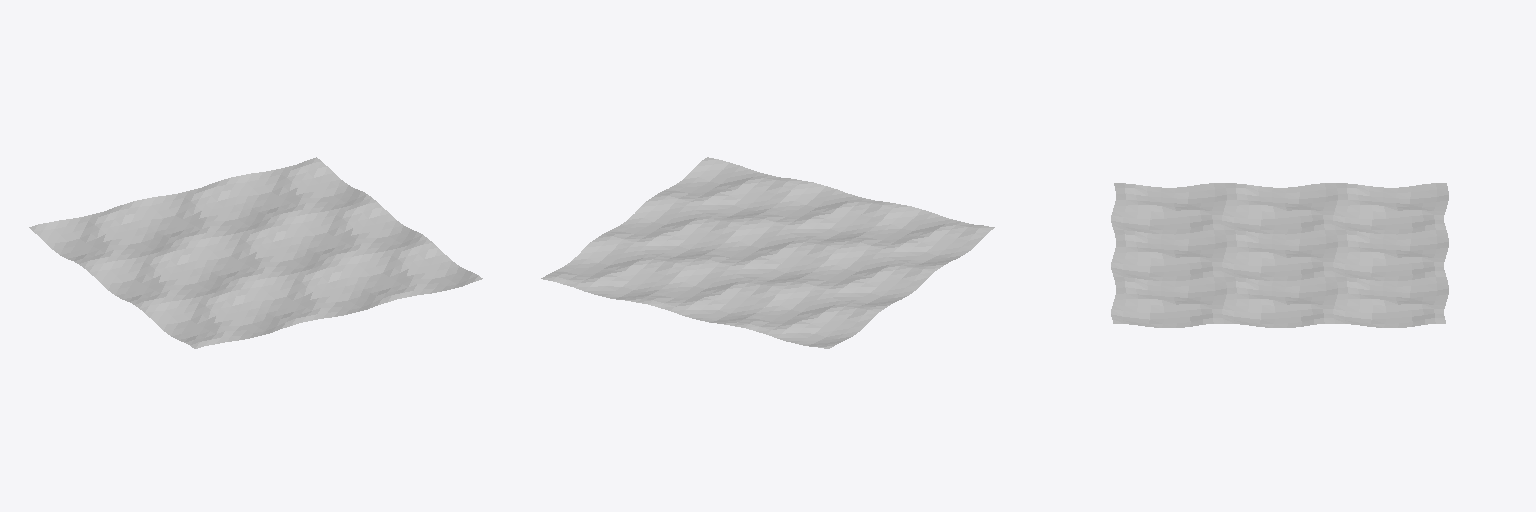
Rendered from ocean_000256.obj.
The picture shows the model from 3 angles: view 1: azimuth 30°, elevation 25°; view 2: azimuth 150°, elevation 25°; view 3: azimuth 270°, elevation 25°; orthographic projection.
Parts seen in each view (by area): view 1: Ocean_Plan.001; view 2: Ocean_Plan.001; view 3: Ocean_Plan.001.
Boxes of the visible parts, <box> form: Ocean_Plan.001: <box>29,157,482,348</box>; Ocean_Plan.001: <box>541,157,994,348</box>; Ocean_Plan.001: <box>1111,183,1448,327</box>.
Size of the model in its own units: 109212 by 2430 by 110645.